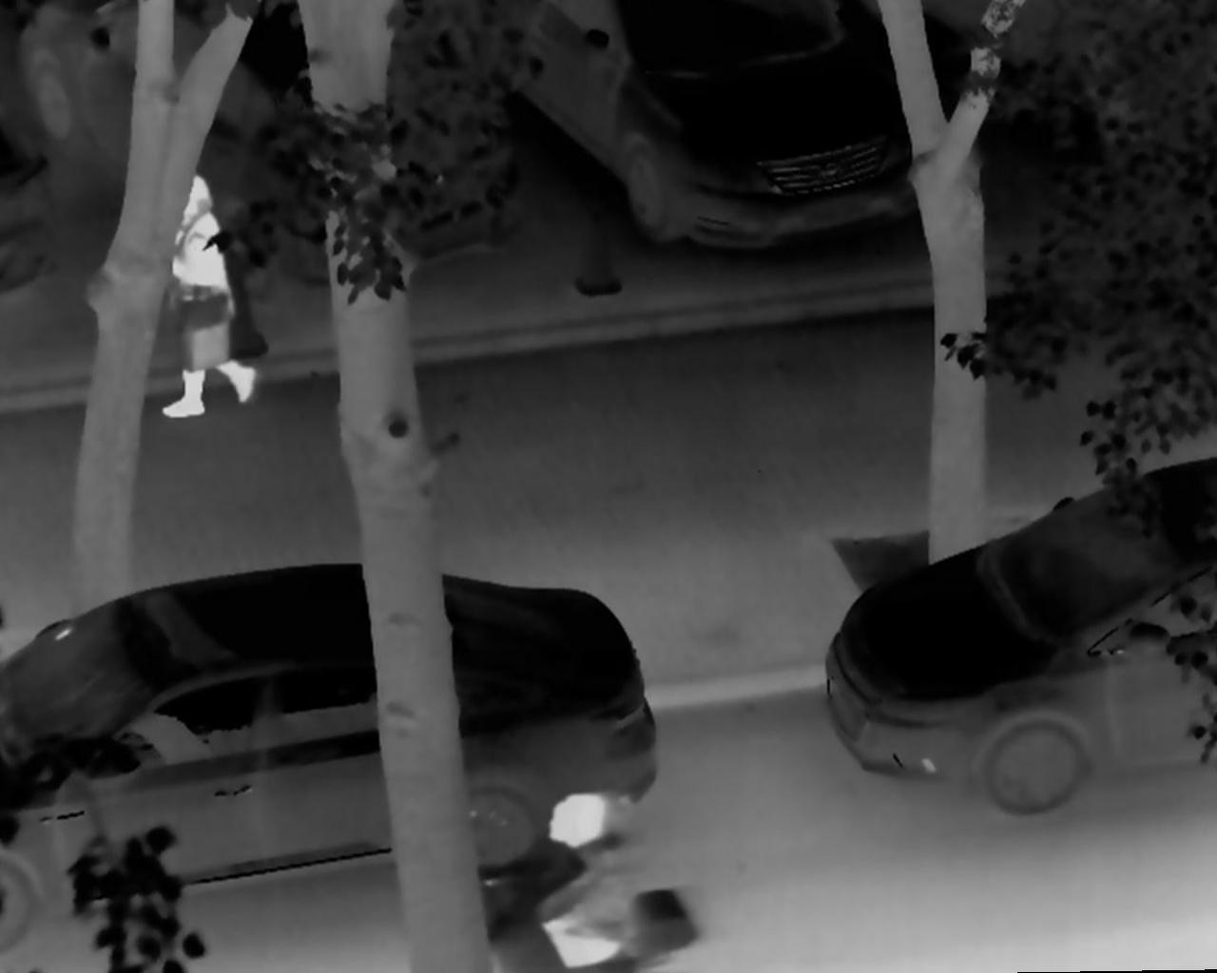person: (159, 176, 255, 422), (530, 783, 635, 973)
